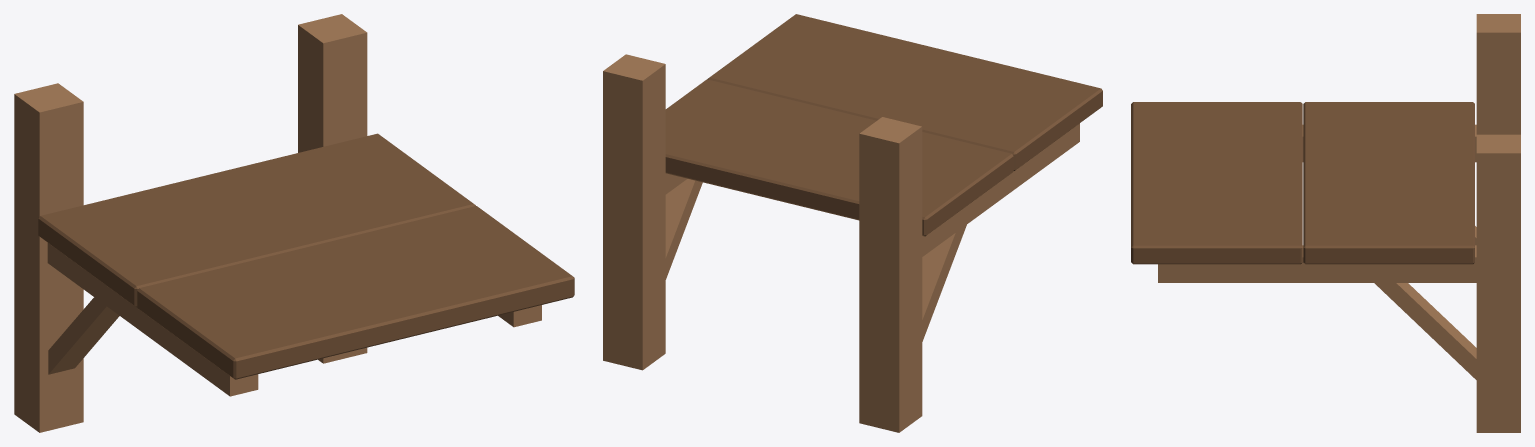
The model's file is Soporte de madera.fbx.
The picture shows the model from 3 angles, left to right: view 1: azimuth 30°, elevation 25°; view 2: azimuth 150°, elevation 25°; view 3: azimuth 270°, elevation 25°; orthographic projection. The views are drawn at different scales.
Visible parts, largest first — view 1: pCube120; view 2: pCube120; view 3: pCube120.
Boxes of the visible parts, x1,y1,x2,y2 form: pCube120: (14, 14, 574, 432); pCube120: (603, 14, 1102, 432); pCube120: (1131, 14, 1520, 432).
Bounding box in the file's own units: 2.99 × 2.68 × 3.39.
